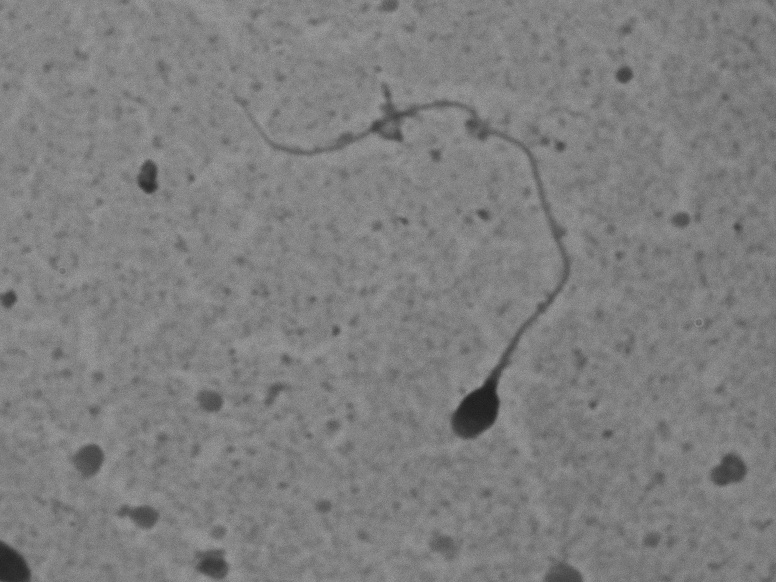Abnormal: (213, 54, 597, 480)
